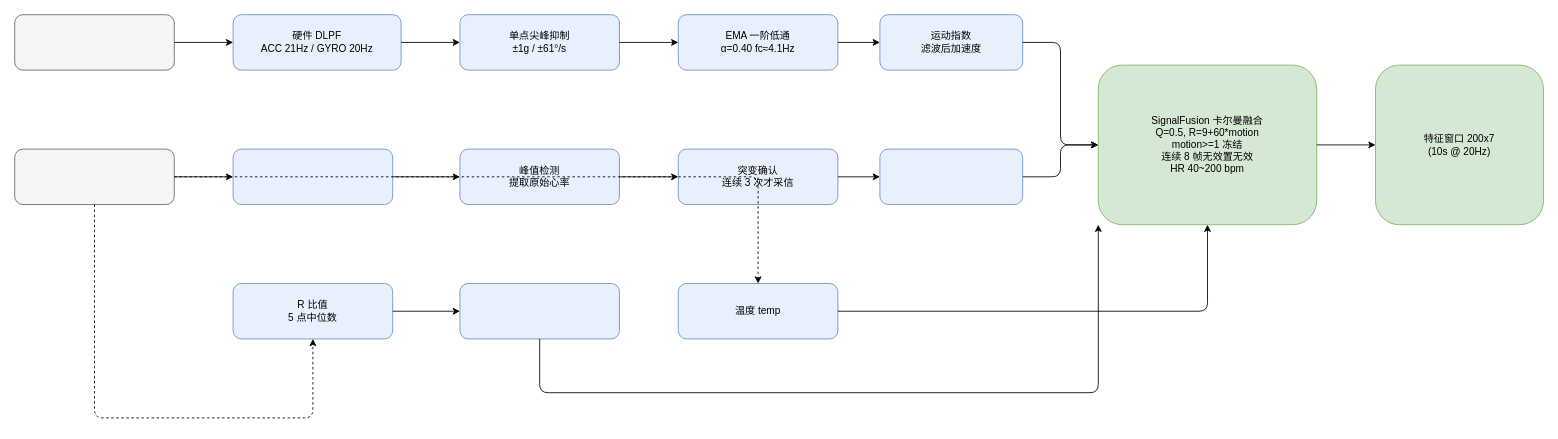
Image size: 1558x439. Some labels were removed from this diagram. Each missing label, with the centre of its shape:
"MAX30102 采样 50Hz IR / RED / 温度" goes at point 94,176.
"MPU6050 六轴采样 50Hz" goes at point 94,42.
"PPG IIR 带通 0.5~5Hz" goes at point 312,176.
"SpO2 饱和度 查表" goes at point 539,311.
"原始心率" goes at point 951,176.
